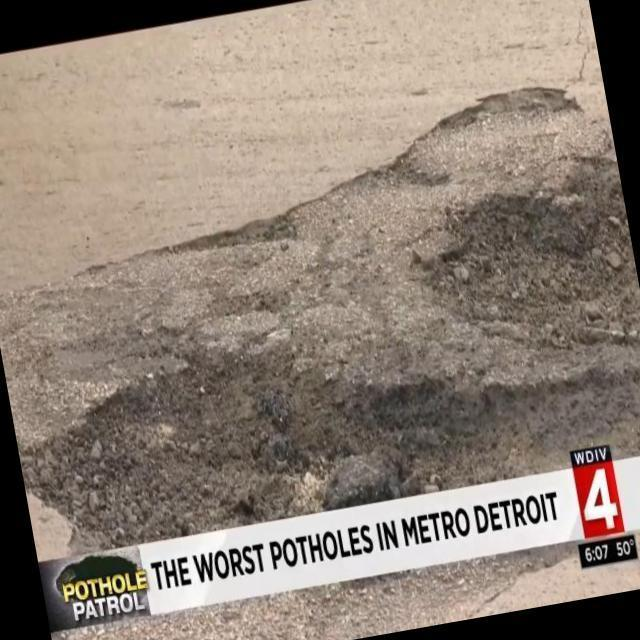Pothole: (0, 74, 640, 527)
